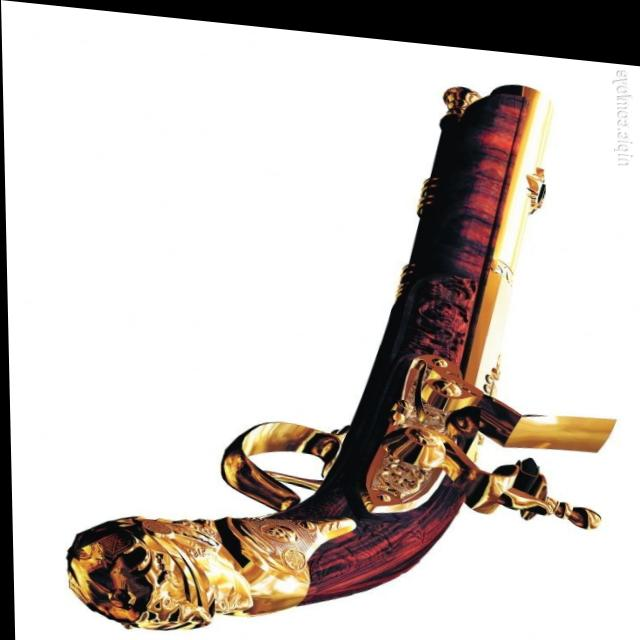handgun: (53, 32, 621, 640)
